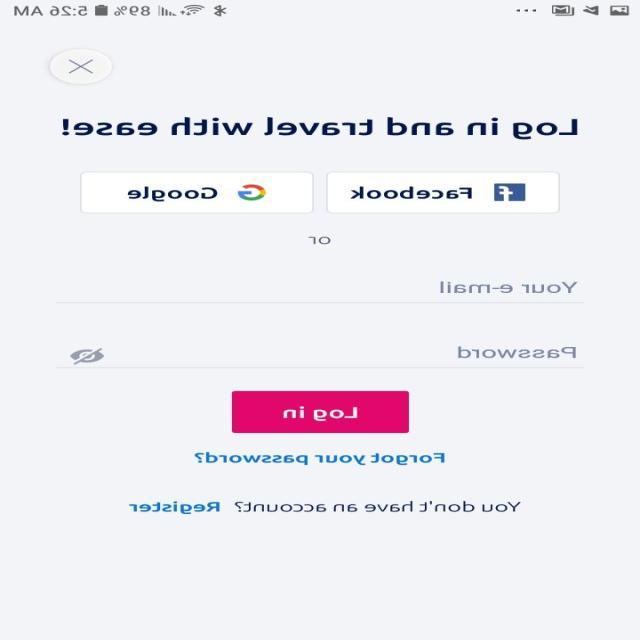EditText: (56, 346, 585, 368), (56, 281, 584, 303)
Icon: (50, 49, 114, 85), (70, 348, 106, 365)
Text: (62, 117, 579, 140), (194, 451, 446, 465), (234, 500, 522, 512), (440, 281, 578, 294), (458, 346, 576, 359), (128, 501, 222, 514), (308, 236, 332, 244)
TextButton: (326, 171, 560, 214), (81, 171, 315, 214), (232, 390, 410, 432)
